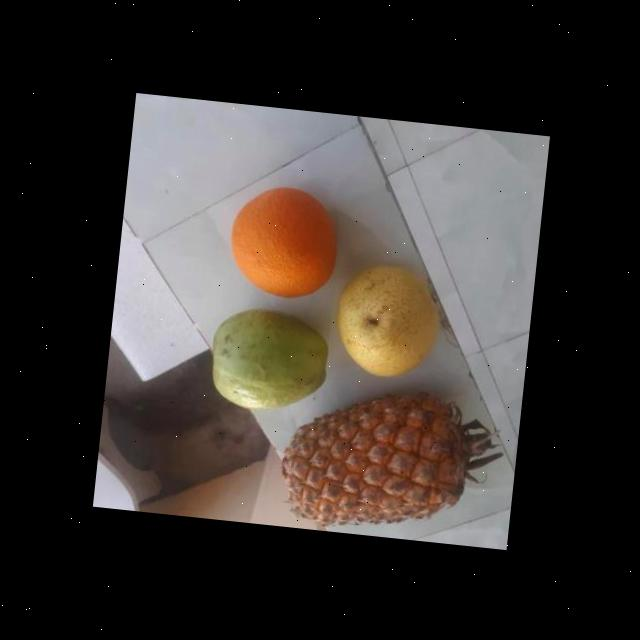guava: (208, 304, 338, 412)
orange: (224, 182, 348, 300)
pear: (330, 263, 446, 379)
pineapple: (278, 379, 487, 536)
